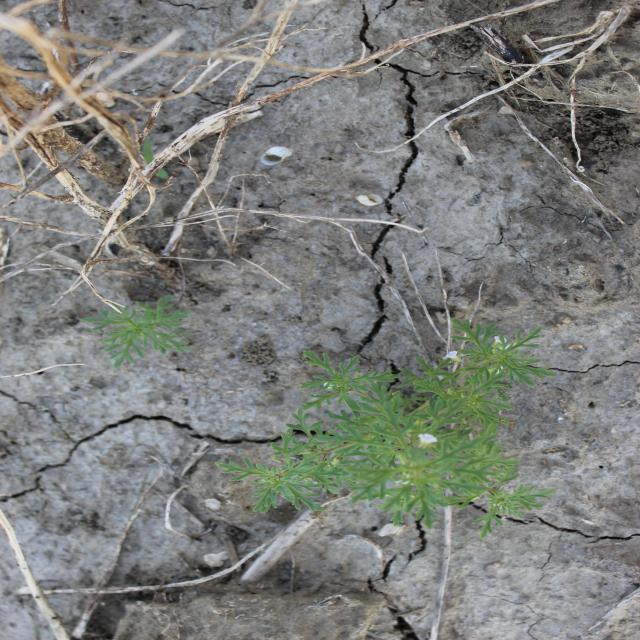Ragweed: (213, 317, 559, 541), (80, 294, 195, 369)
